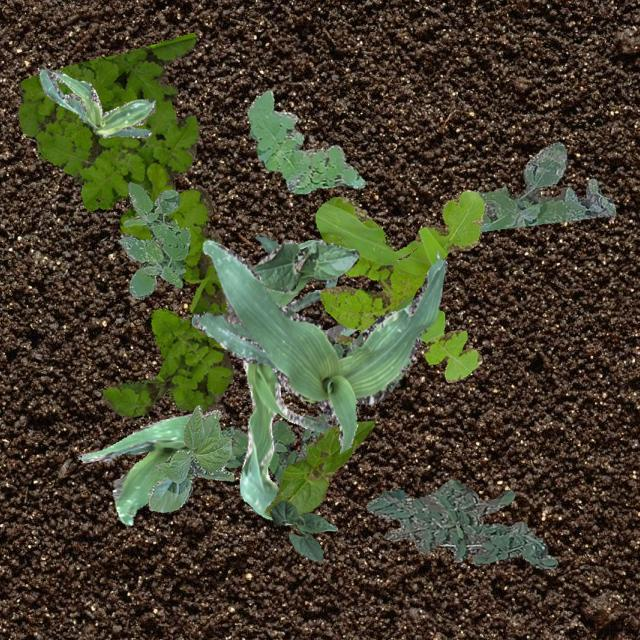crop: (190, 240, 447, 452), (238, 288, 358, 518), (76, 414, 235, 524), (264, 420, 372, 516), (148, 404, 232, 510), (38, 68, 154, 138), (254, 232, 336, 308), (250, 238, 358, 292), (268, 498, 336, 560)
weed: (16, 31, 232, 416), (298, 188, 484, 402), (364, 478, 556, 568), (476, 140, 614, 230), (246, 90, 364, 192), (116, 180, 190, 298), (220, 412, 328, 484)
